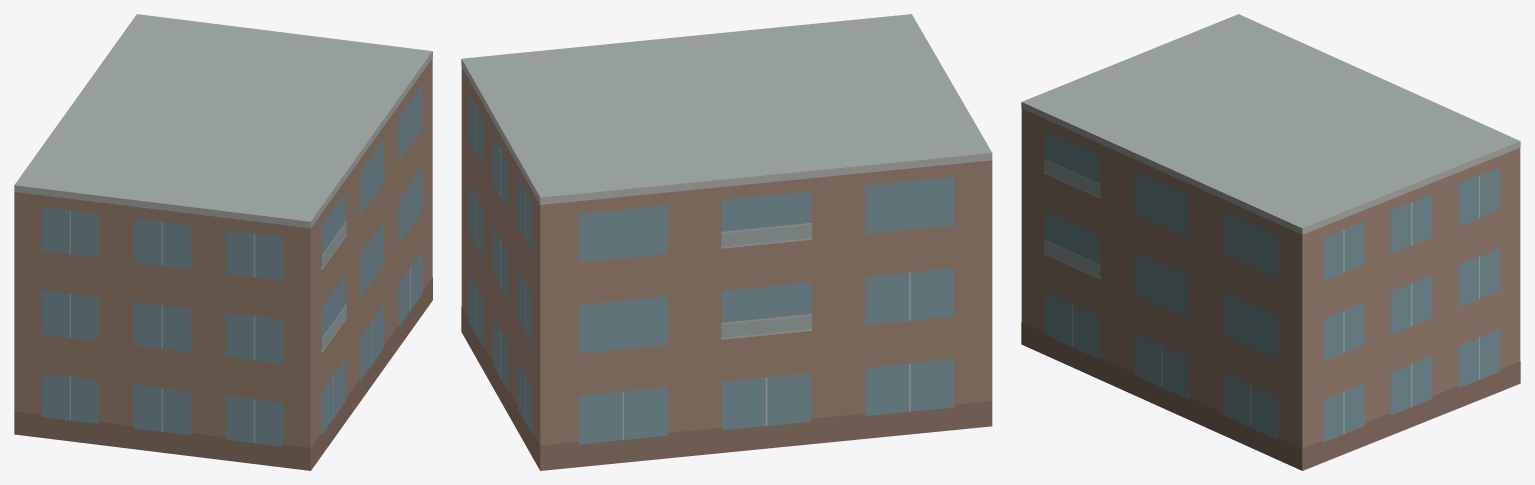
The model's file is survey-upis-32722304.glb.
3 views of the same model, side by side, from view 1: azimuth 30°, elevation 25°; view 2: azimuth 150°, elevation 25°; view 3: azimuth 270°, elevation 25° (orthographic). The views are drawn at different scales.
Visible parts, largest first — view 1: survey-upis-32722304.tmp; view 2: survey-upis-32722304.tmp; view 3: survey-upis-32722304.tmp.
Part boxes in pixels (x1,y1,x2,y2): survey-upis-32722304.tmp: [14, 14, 432, 470]; survey-upis-32722304.tmp: [461, 14, 992, 470]; survey-upis-32722304.tmp: [1021, 14, 1520, 470].
Size of the model in its own units: 17.36 by 9.15 by 17.07.
